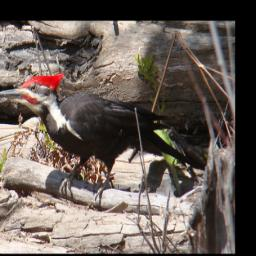Woodpecker: (0, 71, 205, 206)
